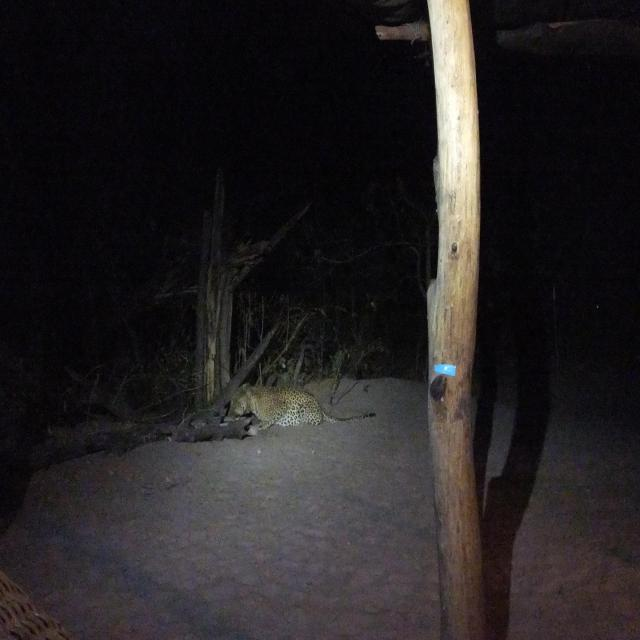Leopard: (237, 388, 362, 439)
